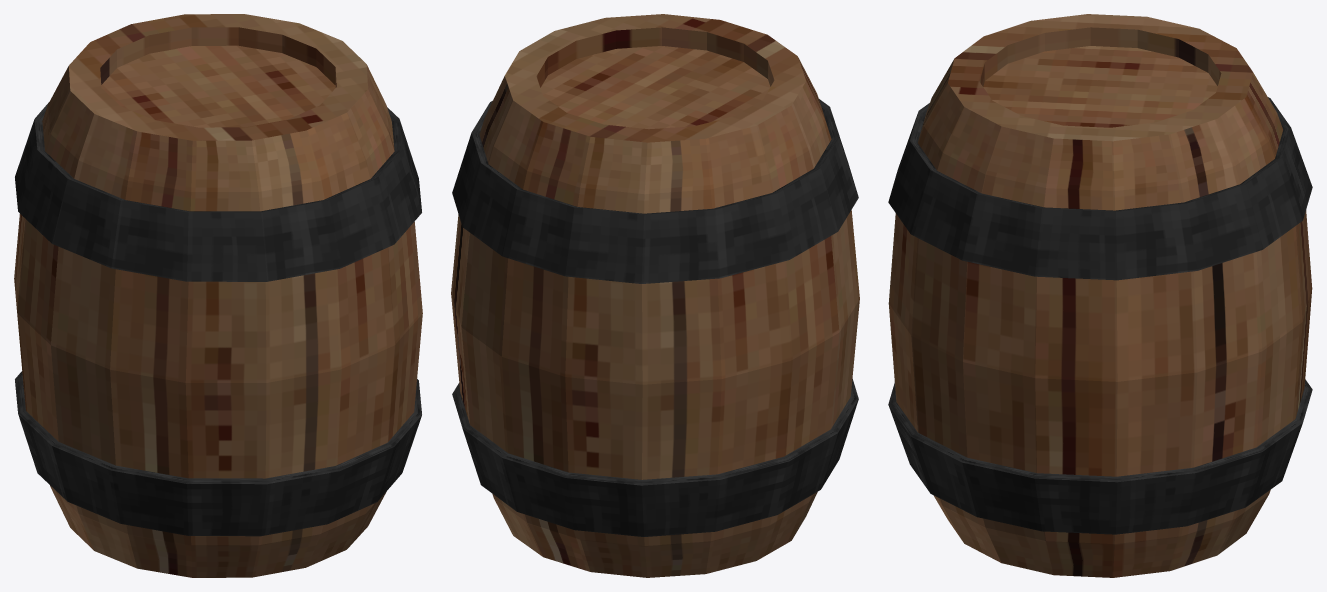
Rendered from Barrel (1).fbx.
3 views of the same model, side by side, from view 1: azimuth 30°, elevation 25°; view 2: azimuth 150°, elevation 25°; view 3: azimuth 270°, elevation 25° (orthographic).
Parts seen in each view (by area): view 1: Barrel, Rings; view 2: Barrel, Rings; view 3: Barrel, Rings.
Part boxes in pixels (left/top/right/bottom): Barrel: left=14, top=14, right=422, bottom=577; Rings: left=15, top=102, right=421, bottom=536; Barrel: left=451, top=14, right=859, bottom=577; Rings: left=452, top=99, right=858, bottom=536; Barrel: left=888, top=14, right=1312, bottom=577; Rings: left=888, top=97, right=1312, bottom=534.
Size of the model in its own units: 19.63 by 23.26 by 20.49.
2 materials, 2 textured.
